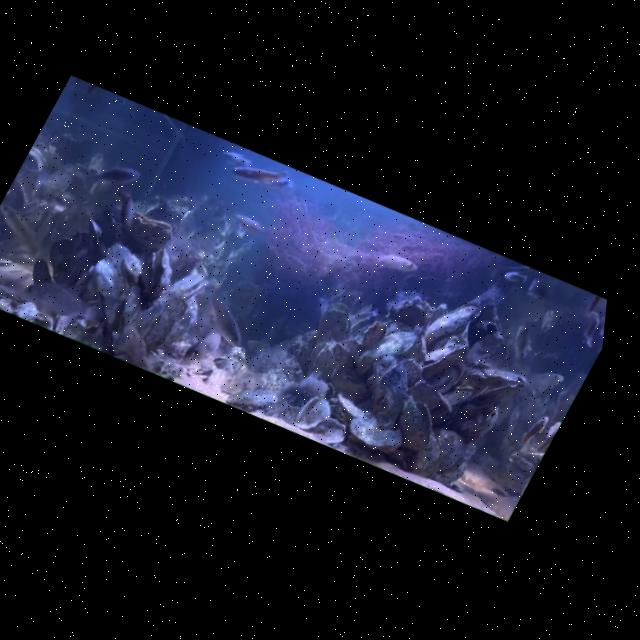Oyster-Closed: (68, 236, 155, 335), (345, 345, 430, 435), (350, 315, 420, 390), (418, 288, 485, 360), (338, 407, 410, 463), (141, 293, 193, 361), (415, 422, 474, 480), (415, 329, 472, 389), (122, 290, 172, 354), (405, 428, 455, 483), (326, 389, 386, 434), (107, 280, 153, 338), (0, 272, 52, 319), (322, 365, 376, 408), (397, 320, 442, 368), (73, 214, 114, 254)
Oyster-Indeterminate: (0, 191, 57, 263), (29, 231, 87, 293), (461, 352, 532, 402), (469, 367, 526, 423), (16, 254, 74, 309), (159, 295, 207, 358), (382, 287, 440, 339), (86, 205, 134, 255), (424, 350, 472, 398), (0, 177, 35, 240), (388, 352, 432, 395), (403, 374, 449, 415), (308, 412, 353, 452), (142, 194, 188, 232), (436, 375, 479, 415), (355, 316, 392, 355), (324, 341, 363, 373)
Oyster-Open: (381, 389, 450, 459), (113, 204, 180, 260), (131, 243, 186, 304), (309, 294, 366, 351), (290, 391, 339, 439), (164, 264, 213, 309), (17, 143, 58, 184), (209, 351, 236, 374)
